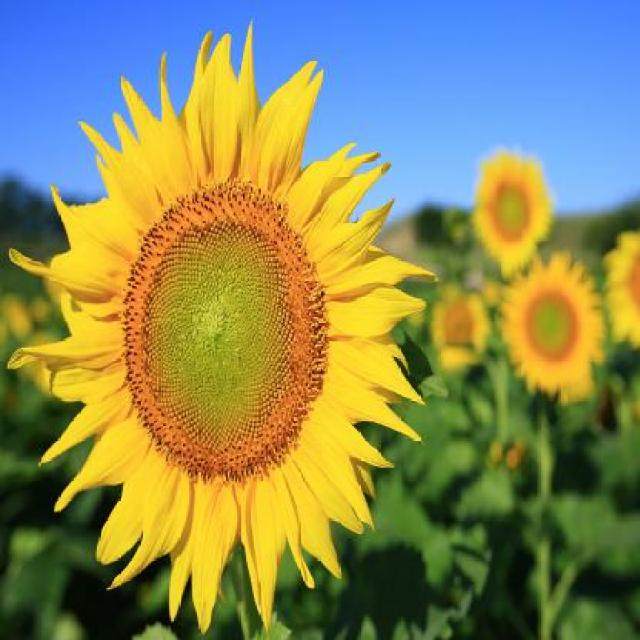sunflower: (8, 32, 462, 639), (495, 248, 608, 411), (469, 137, 557, 276), (428, 278, 494, 372)
